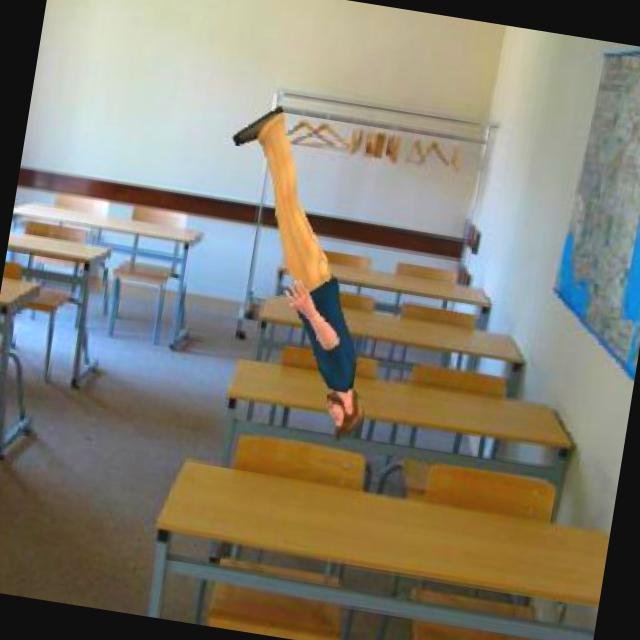Person: (185, 96, 412, 446)
